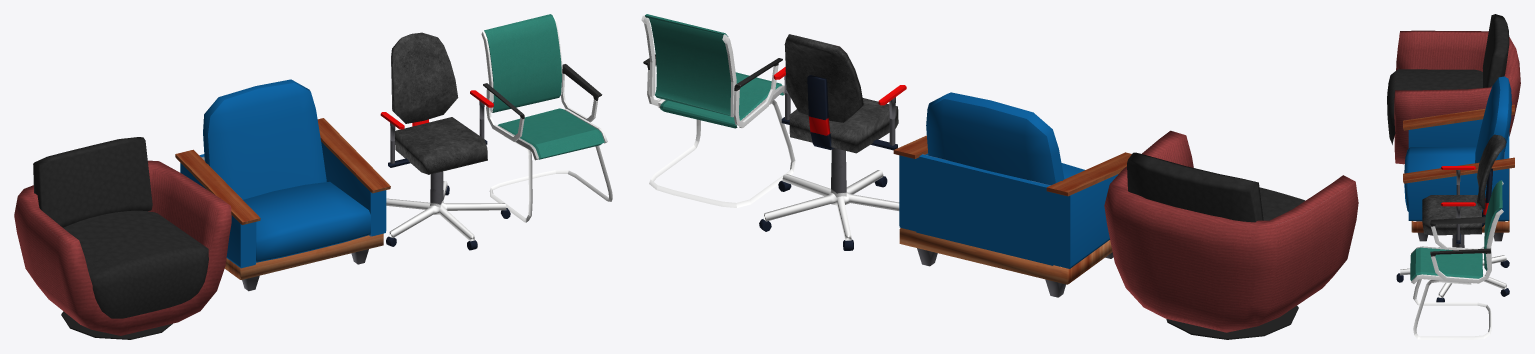
Rendered from chairs.fbx.
The picture shows the model from 3 angles, left to right: view 1: azimuth 30°, elevation 25°; view 2: azimuth 150°, elevation 25°; view 3: azimuth 270°, elevation 25°; orthographic projection. The views are drawn at different scales.
Visible parts, largest first — view 1: model_2:polySurface2, model_0:Mesh, polySurface8, chair_2; view 2: model_2:polySurface2, model_0:Mesh, polySurface8, chair_2; view 3: model_2:polySurface2, model_0:Mesh, chair_2, polySurface8.
Part boxes in pixels (x1,y1,x2,y2): model_2:polySurface2: (14,137,231,339); model_0:Mesh: (175,79,390,291); polySurface8: (380,32,510,250); chair_2: (481,14,612,222); model_2:polySurface2: (1104,130,1358,339); model_0:Mesh: (893,92,1131,297); polySurface8: (759,34,906,250); chair_2: (641,14,795,207); model_2:polySurface2: (1387,14,1520,164); model_0:Mesh: (1403,76,1514,241); chair_2: (1410,180,1503,339); polySurface8: (1396,134,1509,302).
Size of the model in its own units: 430 by 131 by 107.
Materials: 1 (1 with a texture image).
